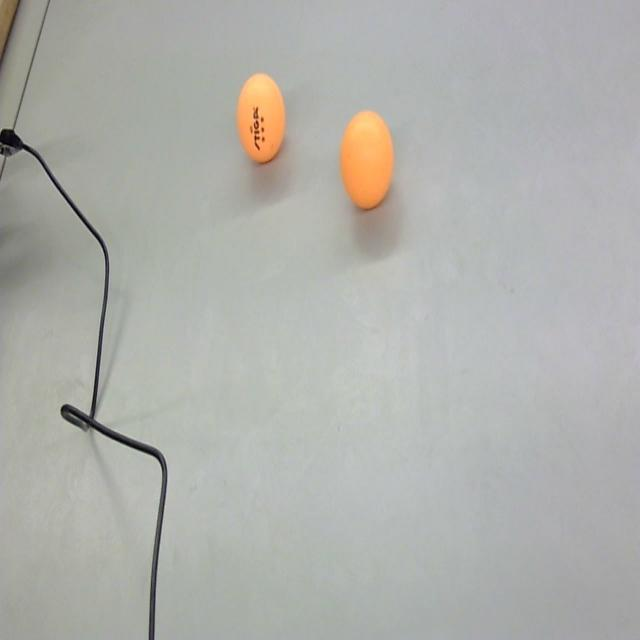ball: (339, 107, 396, 215), (236, 68, 288, 169)
